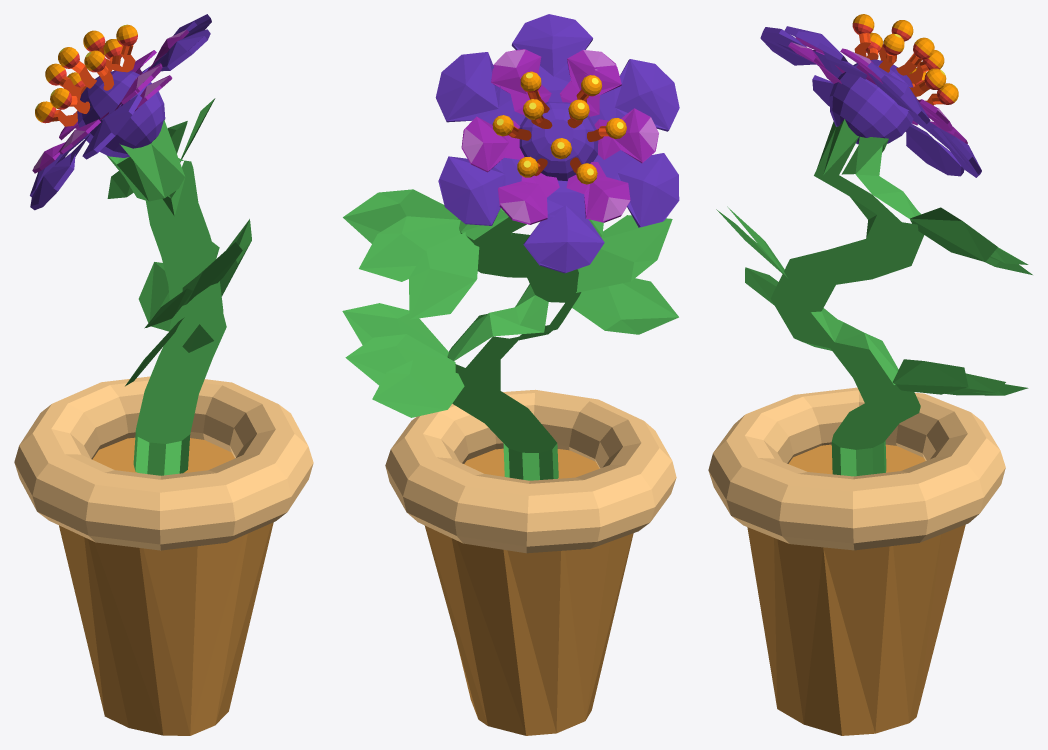
File: scene_lqcqvhqHXa.glb
The picture shows the model from 3 angles, left to right: view 1: azimuth 30°, elevation 25°; view 2: azimuth 150°, elevation 25°; view 3: azimuth 270°, elevation 25°; orthographic projection. The views are drawn at different scales.
Parts seen in each view (by area): view 1: Node; view 2: Node; view 3: Node.
Part boxes in pixels (<box>): Node: <box>14,14,313,735</box>; Node: <box>342,14,679,735</box>; Node: <box>708,14,1032,735</box>.
Bounding box in the file's own units: 0.0789 × 0.187 × 0.0802.
